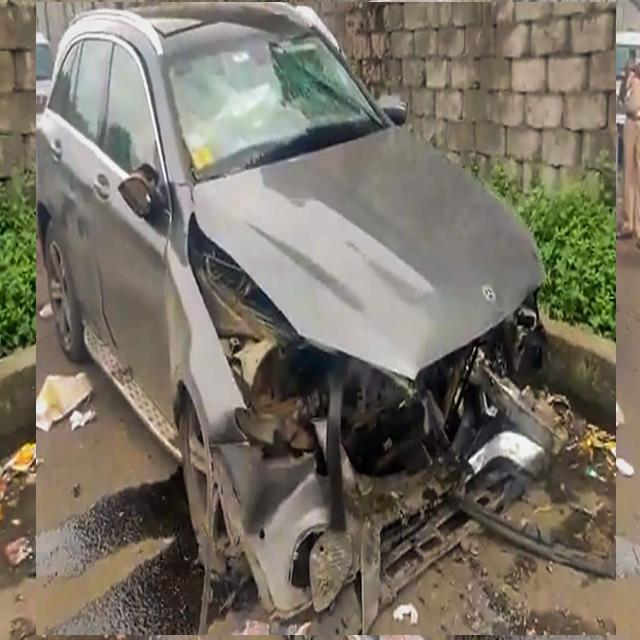accident: (36, 2, 616, 635)
